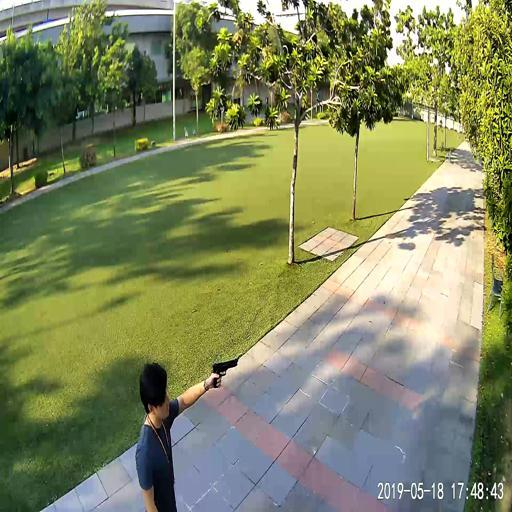Handgun: (210, 357, 237, 388)
